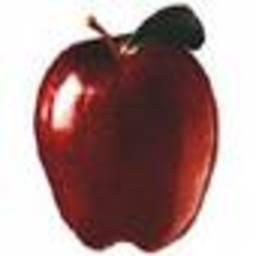apple: (31, 4, 218, 250)
